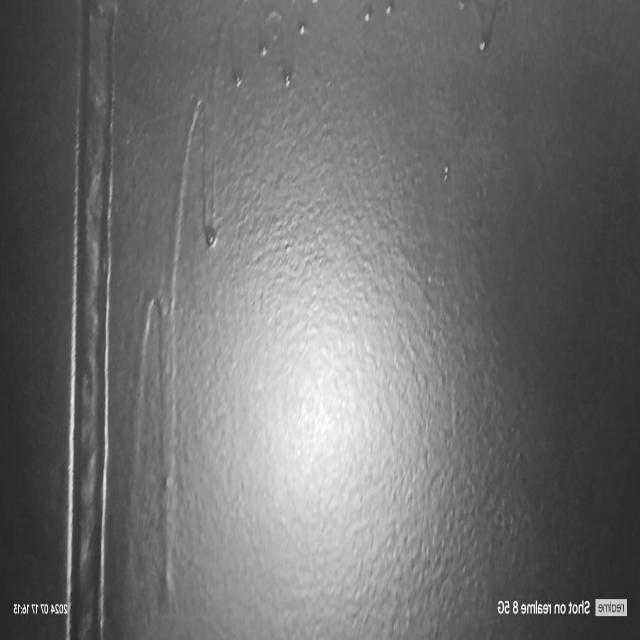paint drips: (109, 0, 515, 620)
